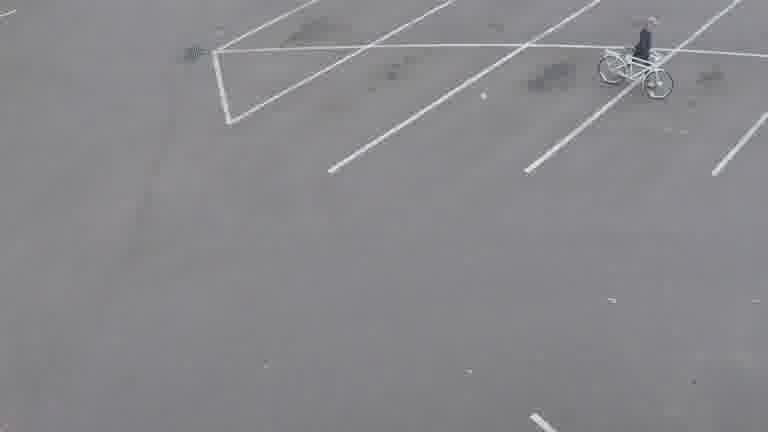bike: (596, 16, 677, 103)
